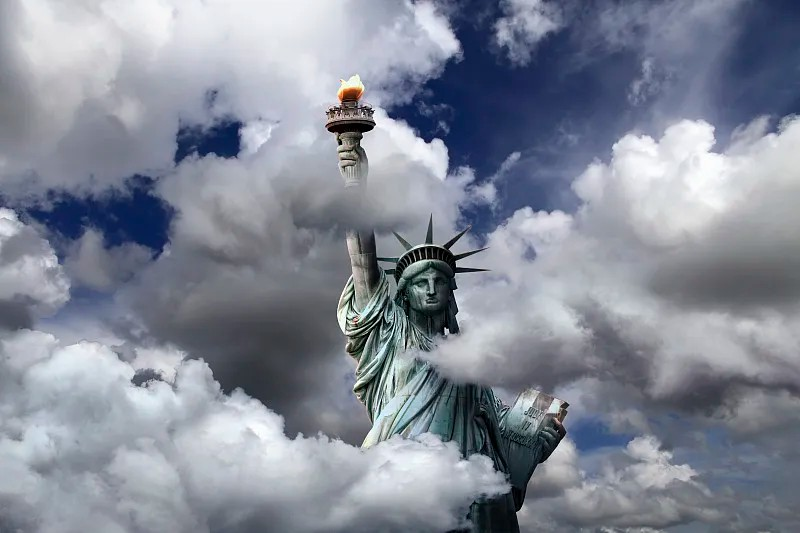SL: (325, 73, 572, 533)
